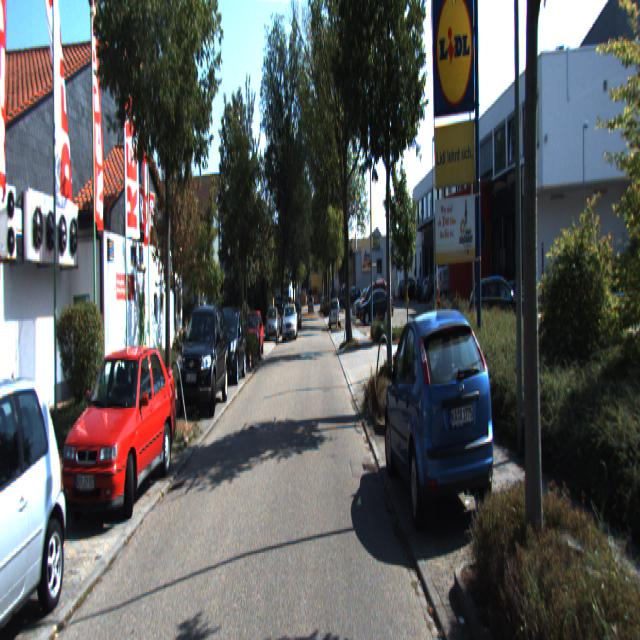Car: (384, 295, 501, 536), (63, 339, 177, 521), (0, 367, 74, 638), (177, 306, 230, 426), (210, 304, 247, 384), (359, 286, 395, 323), (242, 311, 264, 361), (282, 303, 298, 340), (329, 297, 341, 331)
